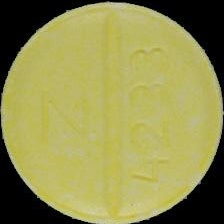0093-4233: (0, 0, 224, 224)
